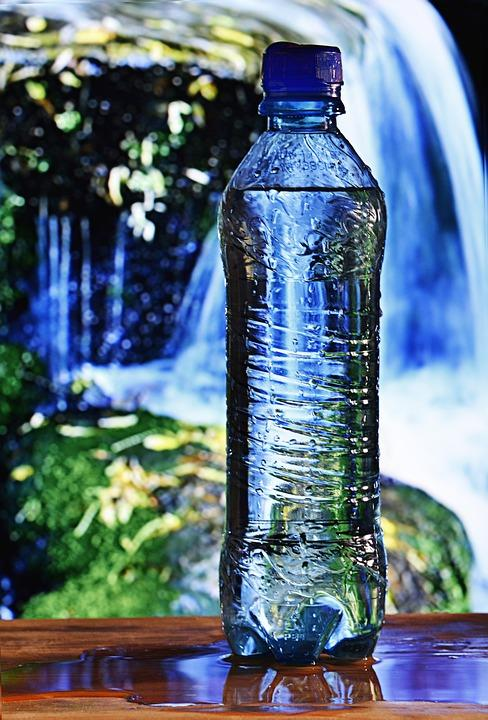bottle: (204, 20, 415, 680)
